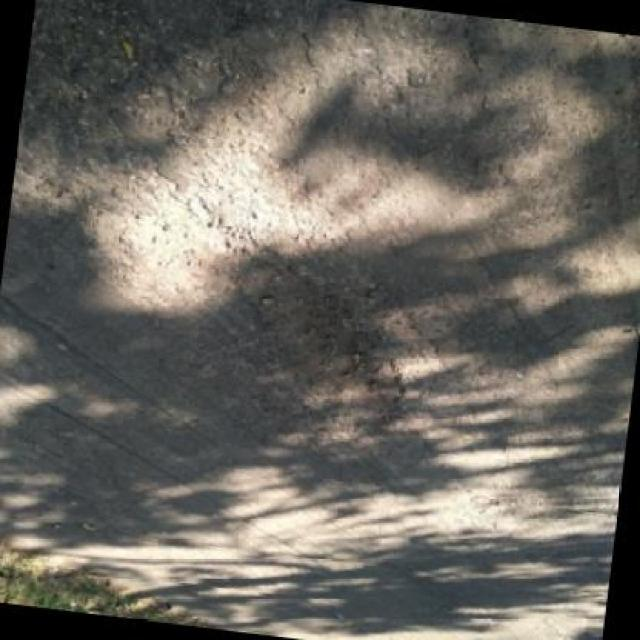pothole: (204, 237, 427, 440)
